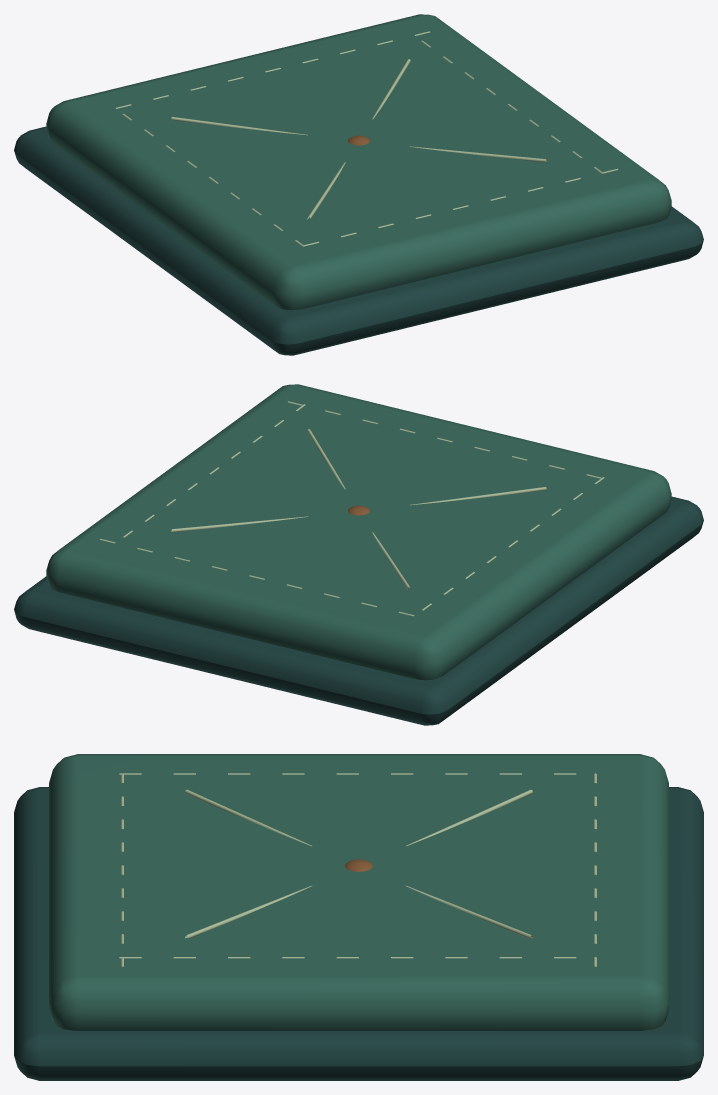
Rendered from spring_pad.glb.
The picture shows the model from 3 angles, top to bottom: view 1: azimuth 30°, elevation 25°; view 2: azimuth 150°, elevation 25°; view 3: azimuth 270°, elevation 25°; orthographic projection. The views are drawn at different scales.
Visible parts, largest first — view 1: spring_pad_Body_quilted_jade, spring_pad_Body_midnight_teal, spring_pad_Body_linen_stitch; view 2: spring_pad_Body_quilted_jade, spring_pad_Body_midnight_teal, spring_pad_Body_linen_stitch; view 3: spring_pad_Body_quilted_jade, spring_pad_Body_midnight_teal, spring_pad_Body_linen_stitch.
Part boxes in pixels (x1,y1,x2,y2): spring_pad_Body_quilted_jade: (46, 14, 671, 310); spring_pad_Body_midnight_teal: (14, 126, 703, 355); spring_pad_Body_linen_stitch: (116, 31, 618, 246); spring_pad_Body_quilted_jade: (46, 384, 671, 680); spring_pad_Body_midnight_teal: (14, 496, 703, 725); spring_pad_Body_linen_stitch: (99, 401, 604, 616); spring_pad_Body_quilted_jade: (49, 754, 668, 1030); spring_pad_Body_midnight_teal: (14, 787, 703, 1080); spring_pad_Body_linen_stitch: (119, 773, 596, 966).
Size of the model in its own units: 0.98 by 0.164 by 1.08.
